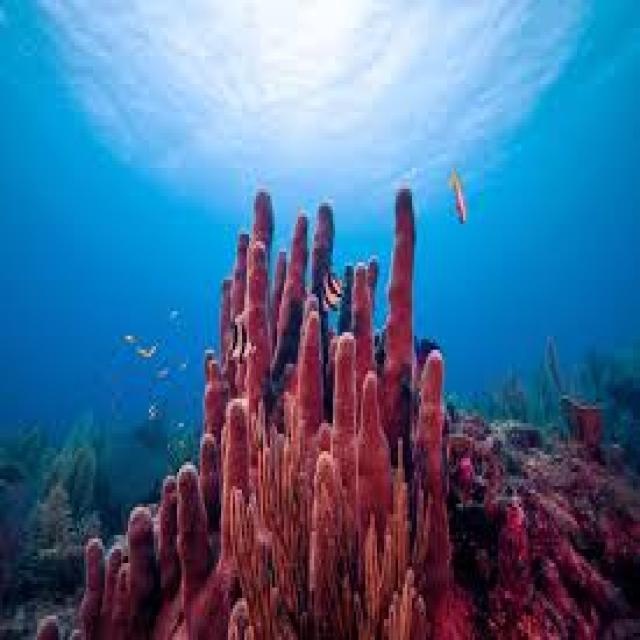Coral: (36, 186, 476, 640)
